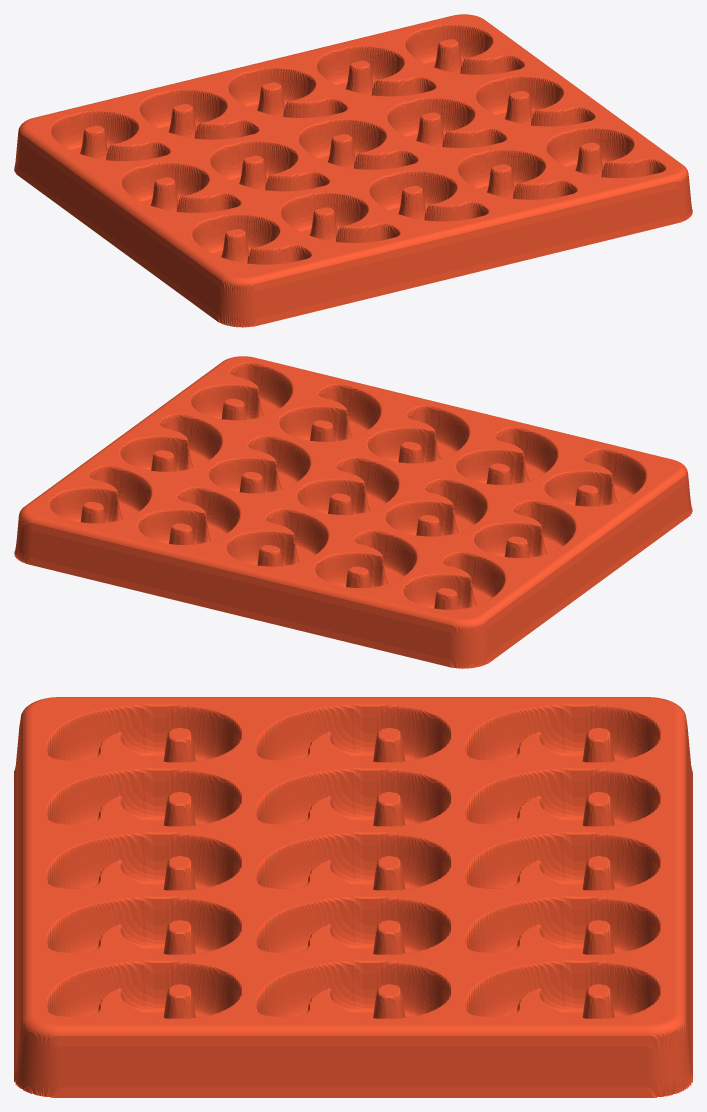
The model's file is mold.glb.
3 renders of one model, top to bottom at view 1: azimuth 30°, elevation 25°; view 2: azimuth 150°, elevation 25°; view 3: azimuth 270°, elevation 25°, orthographic. The views are drawn at different scales.
Parts seen in each view (by area): view 1: geometry_0; view 2: geometry_0; view 3: geometry_0.
Part boxes in pixels (box(x1,y1,x2,y2)): geometry_0: box(14, 14, 692, 327); geometry_0: box(14, 356, 692, 668); geometry_0: box(14, 697, 692, 1097).
Size of the model in its own units: 0.1622 by 0.0145 by 0.1361.
